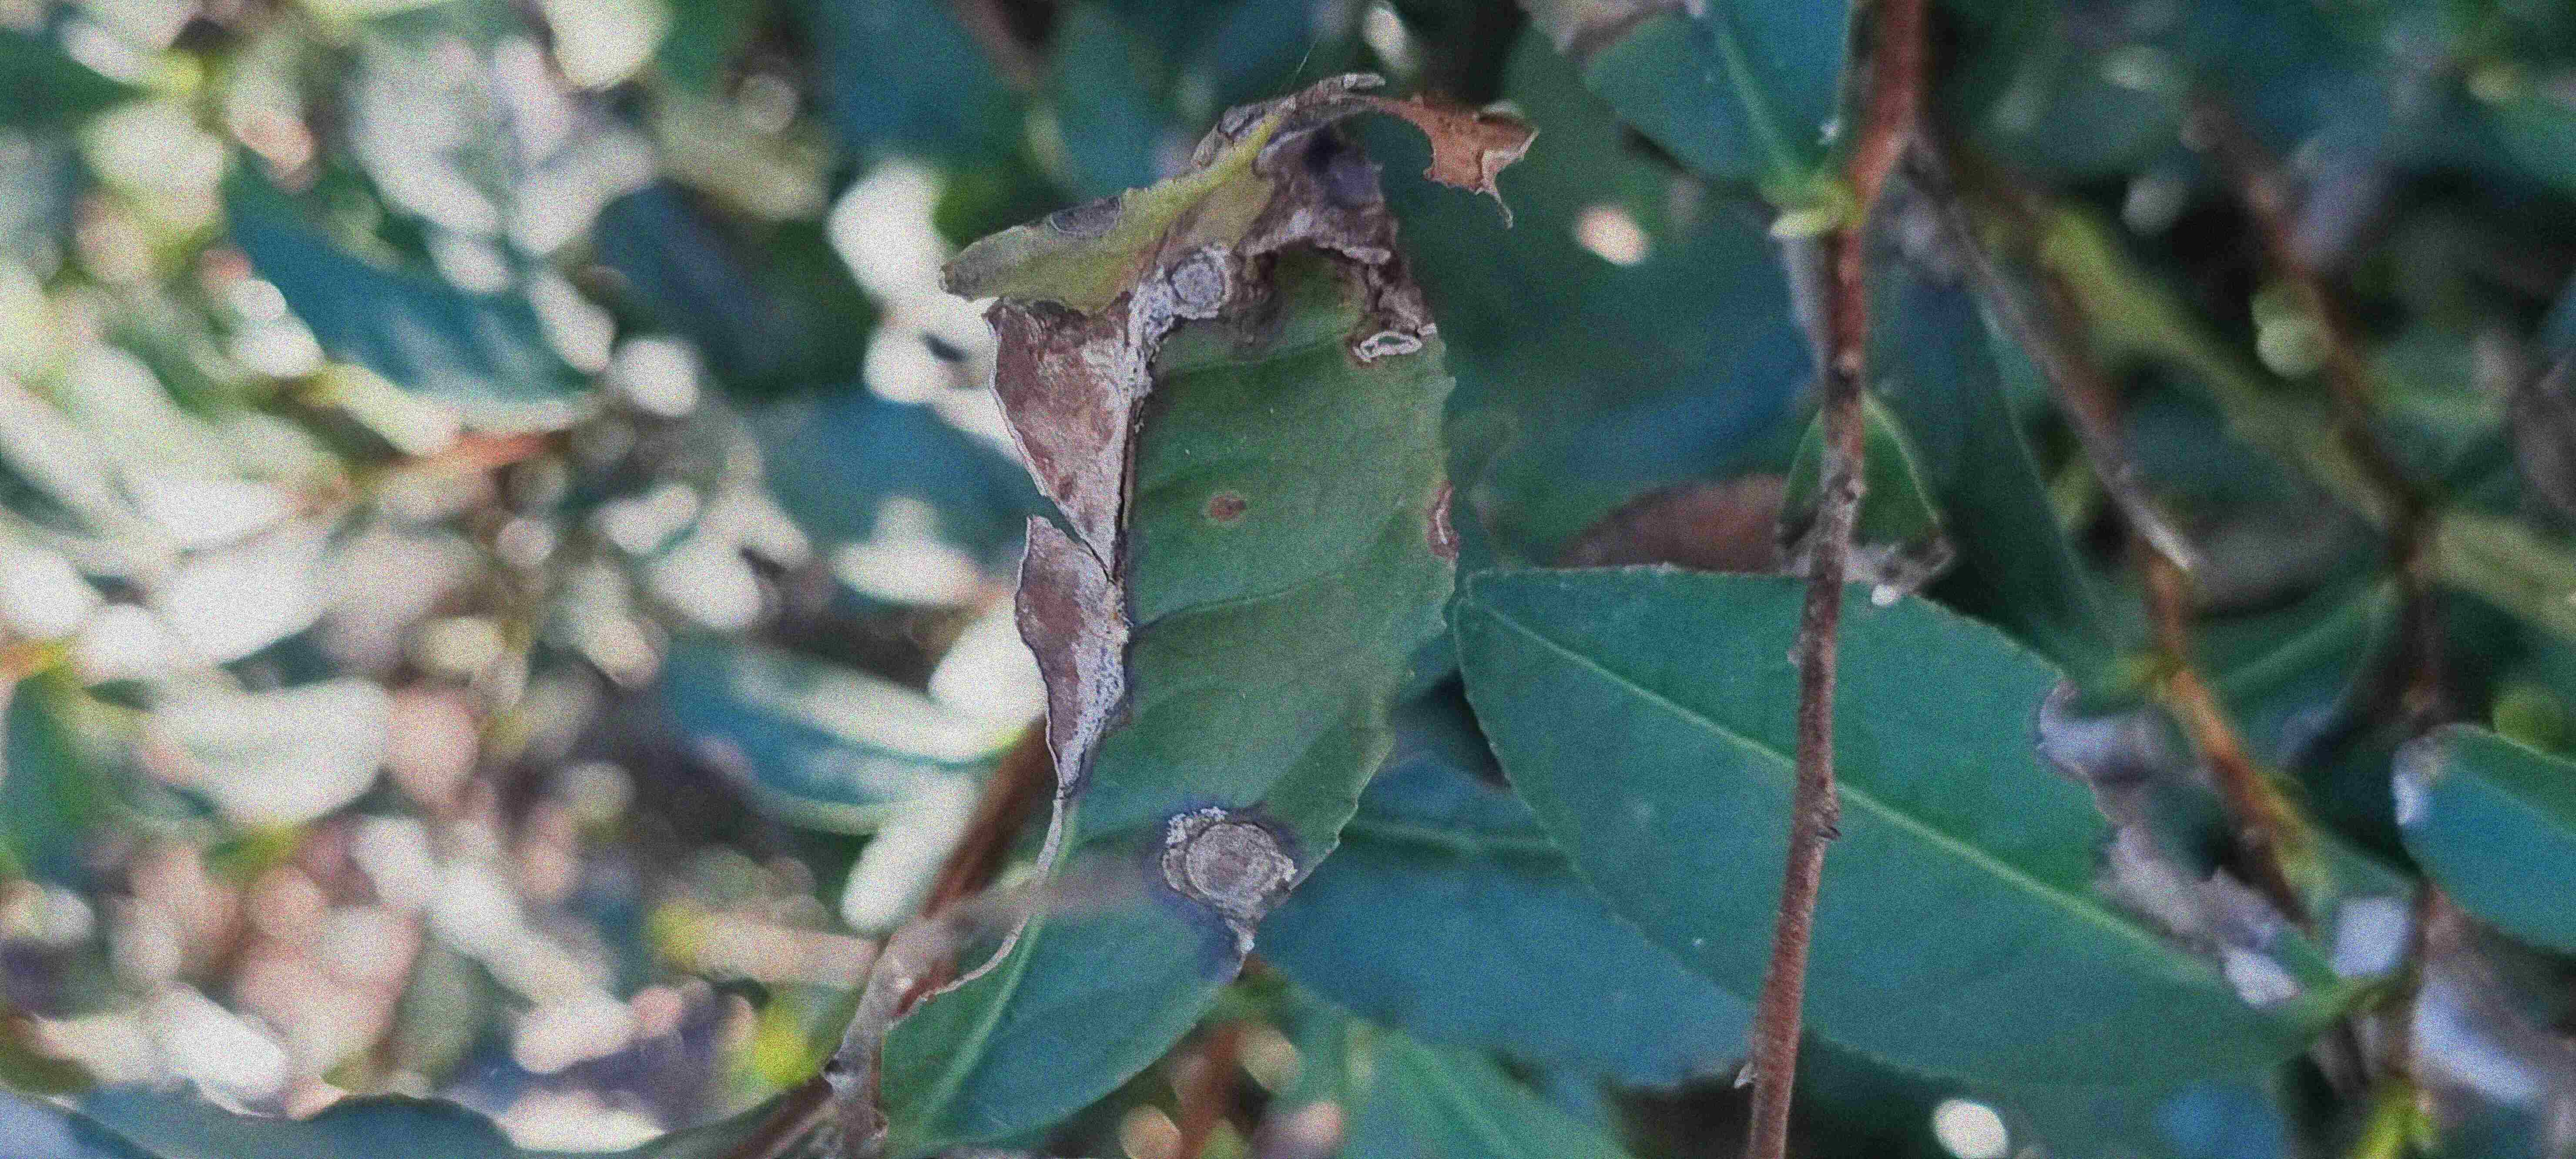tanju_high: (881, 71, 1539, 1146), (1454, 558, 2339, 1097)
